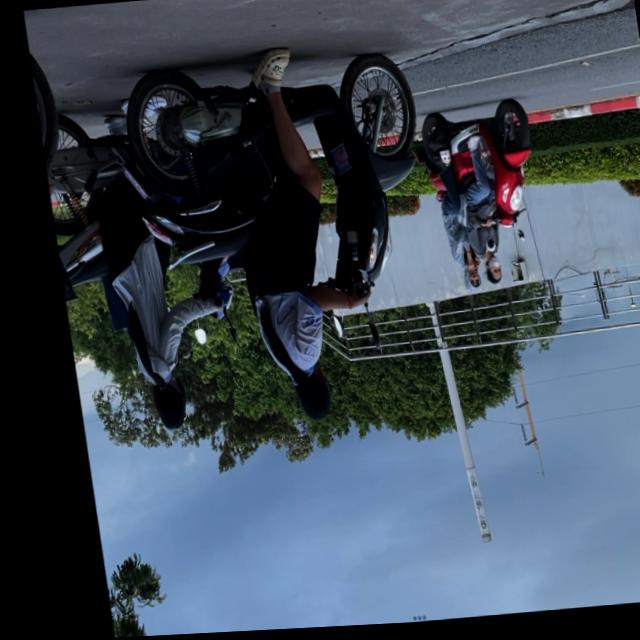seatbelt: (281, 363, 325, 426), (139, 379, 179, 431), (474, 259, 496, 289), (454, 268, 475, 299)
